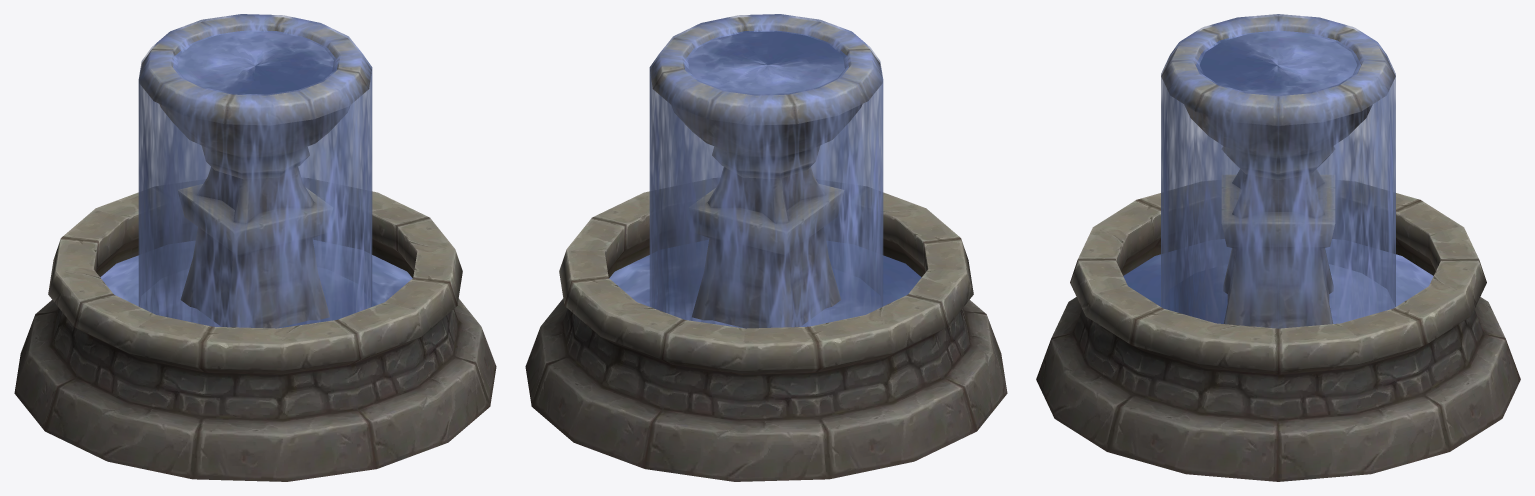
3 views of the same model, side by side, from view 1: azimuth 30°, elevation 25°; view 2: azimuth 150°, elevation 25°; view 3: azimuth 270°, elevation 25° (orthographic).
Size of the model in its own units: 4 by 2.92 by 4.
Materials: 3 (3 with a texture image).
